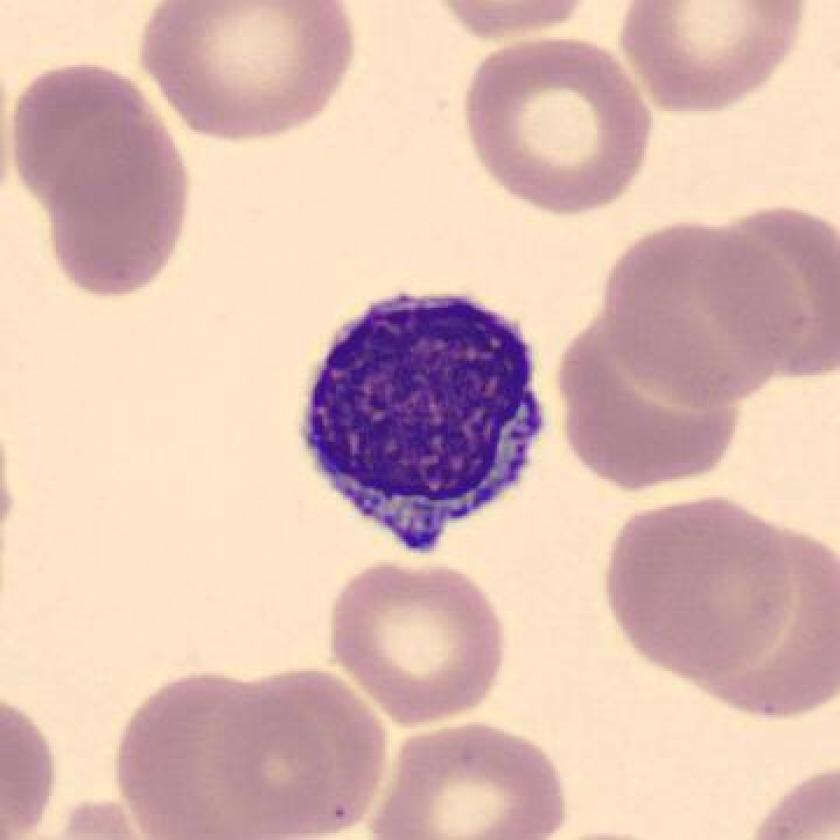lymphocyte: (286, 274, 561, 563)
